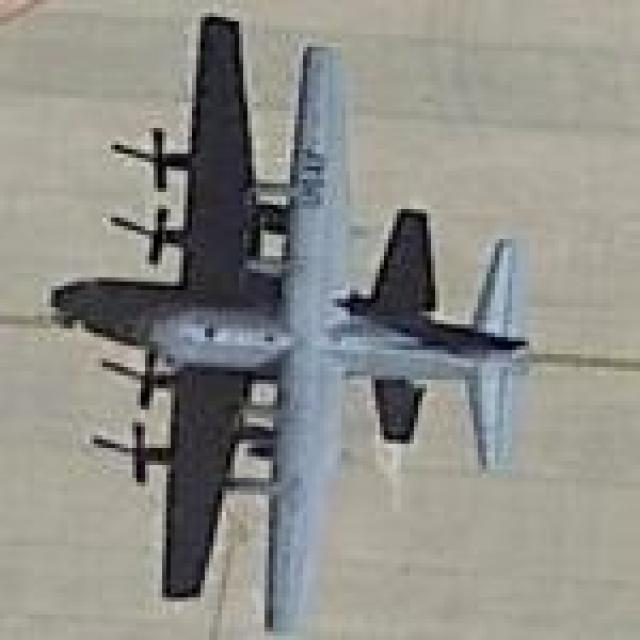C-130_TopDown: (46, 15, 534, 639)
